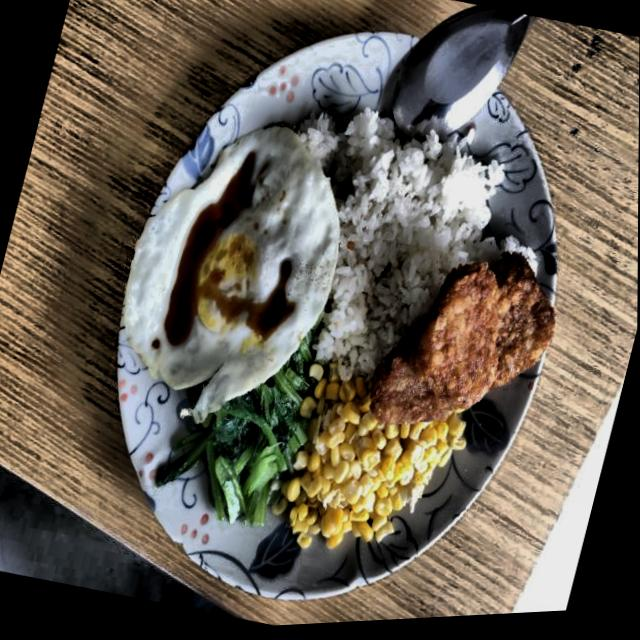Food: (104, 98, 368, 425), (363, 230, 571, 463), (320, 120, 479, 363), (151, 330, 329, 542)
